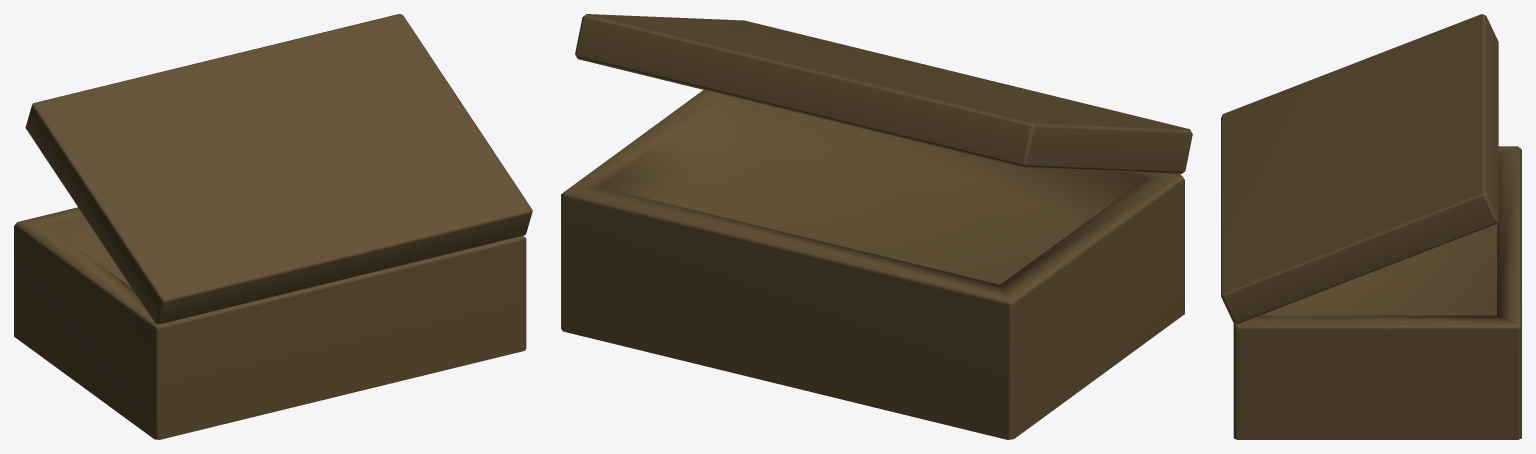
File: JewelryBoxBox_a01.fbx
3 renders of one model, left to right at view 1: azimuth 30°, elevation 25°; view 2: azimuth 150°, elevation 25°; view 3: azimuth 270°, elevation 25°, orthographic. The views are drawn at different scales.
Visible parts, largest first — view 1: Box_a01; view 2: Box_a01; view 3: Box_a01.
Part boxes in pixels (x1=…): Box_a01: x1=14, y1=14, x2=532, y2=439; Box_a01: x1=561, y1=14, x2=1192, y2=439; Box_a01: x1=1221, y1=14, x2=1521, y2=439.
Bounding box in the file's own units: 1.36 × 0.8599 × 0.9534.
